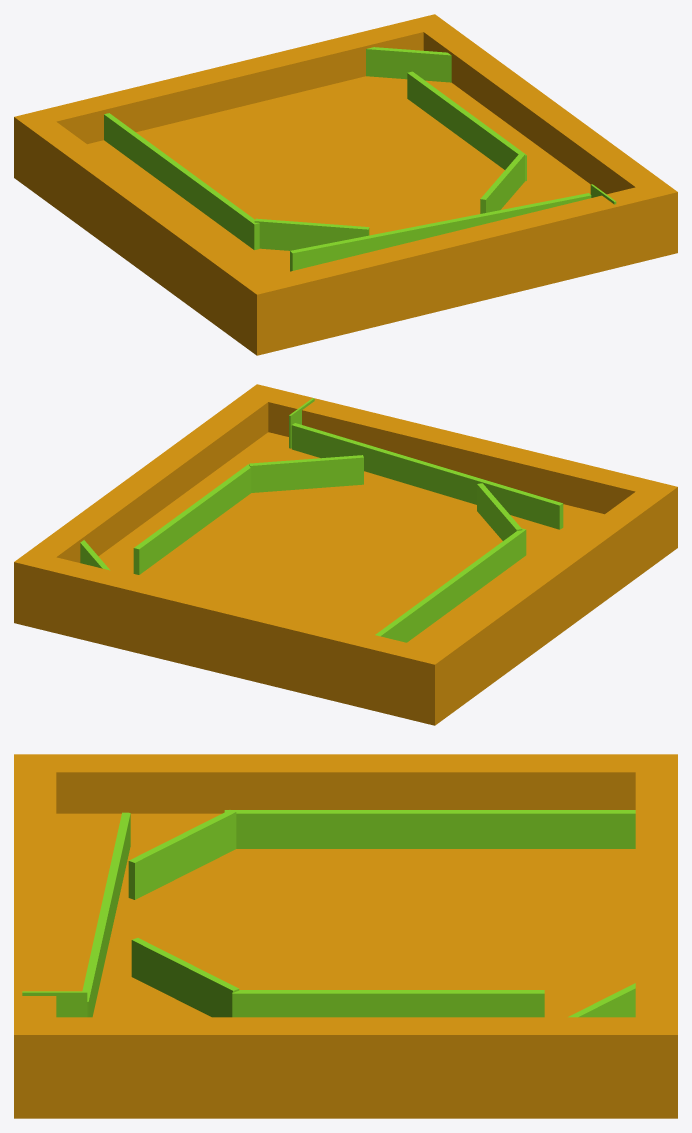
The model's file is pinbollTable.fbx.
3 views of the same model, one above another, from view 1: azimuth 30°, elevation 25°; view 2: azimuth 150°, elevation 25°; view 3: azimuth 270°, elevation 25° (orthographic). The views are drawn at different scales.
Visible parts, largest first — view 1: Cube, Cube.005, Cube.003, Cube.004, Cube.002, Cube.006, Cube.001; view 2: Cube, Cube.003, Cube.005, Cube.004, Cube.001, Cube.002; view 3: Cube, Cube.005, Cube.004, Cube.002, Cube.001, Cube.003, Cube.006, Cube.007.
Boxes of the visible parts, x1,y1,x2,y2 form: Cube: [14, 14, 677, 355]; Cube.005: [104, 113, 259, 250]; Cube.003: [290, 193, 591, 271]; Cube.004: [407, 71, 526, 181]; Cube.002: [254, 218, 369, 250]; Cube.006: [366, 47, 451, 82]; Cube.001: [480, 153, 525, 213]; Cube: [14, 384, 677, 725]; Cube.003: [291, 423, 563, 529]; Cube.005: [375, 528, 526, 642]; Cube.004: [133, 464, 251, 574]; Cube.001: [249, 455, 363, 492]; Cube.002: [477, 483, 522, 540]; Cube: [14, 754, 677, 1118]; Cube.005: [224, 810, 635, 848]; Cube.004: [232, 990, 544, 1017]; Cube.002: [128, 810, 236, 899]; Cube.001: [131, 938, 239, 1017]; Cube.003: [82, 812, 130, 1017]; Cube.006: [568, 983, 635, 1017]; Cube.007: [22, 991, 87, 1017].
Bounding box in the file's own units: 1443 × 208 × 1443.
